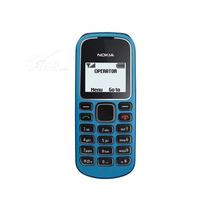phone: (75, 30, 138, 177)
